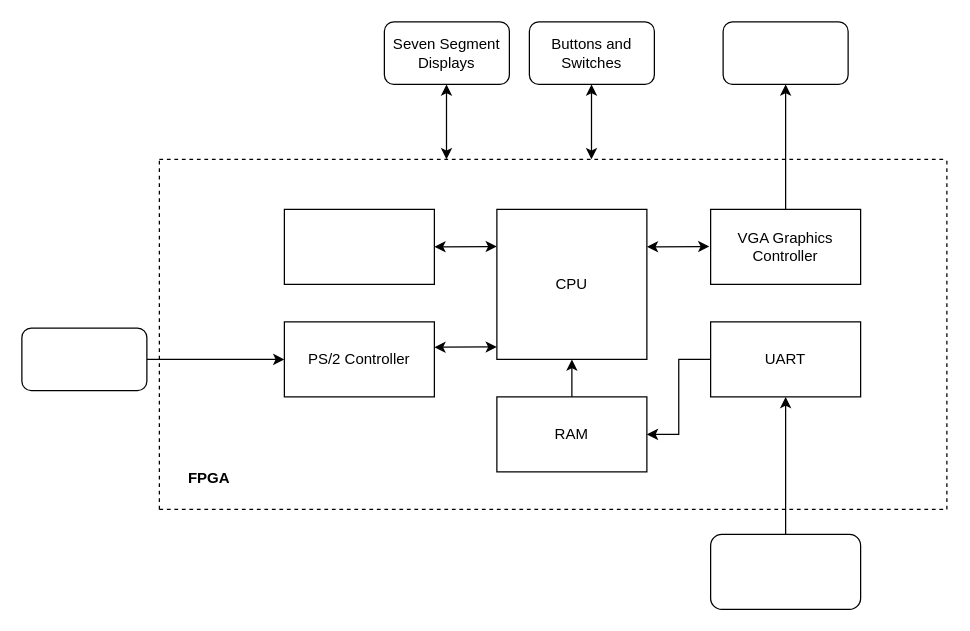
The diagram is 970 pixels wide and 631 high, and some of its shapes have lost their labels. The shapes that lost their labels are listed below. From the top down, each one's centre as x and y in pixels, then its label:
[785,52]: 640x480 display
[358,246]: Audio Controller
[84,359]: PS/2 Keyboard
[785,571]: MCU UART
